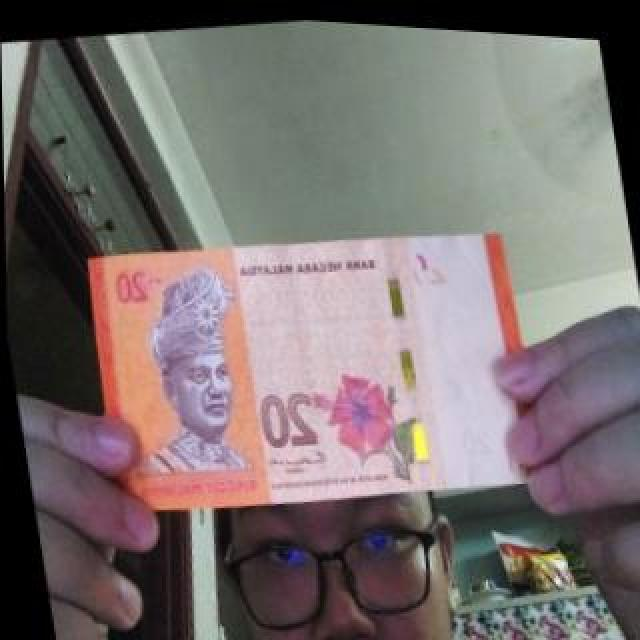20 Ringgit: (84, 196, 549, 534)
